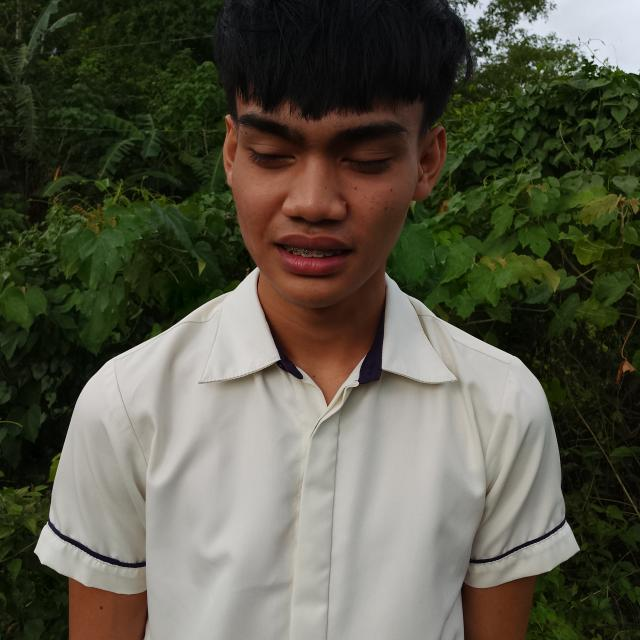education_male_uniform: (32, 250, 640, 640)
